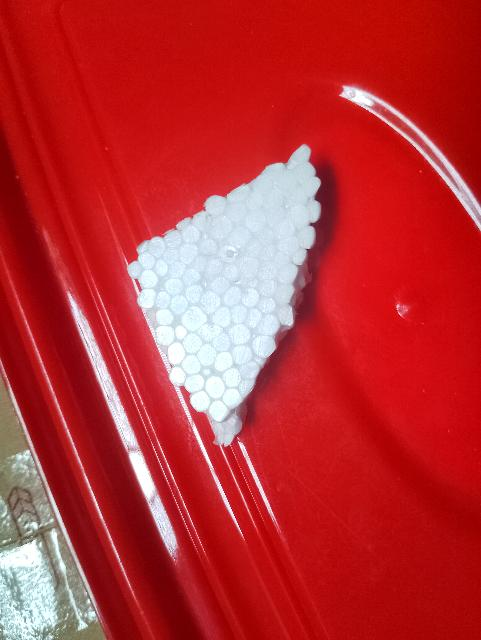cocksheet: (78, 93, 338, 457)
